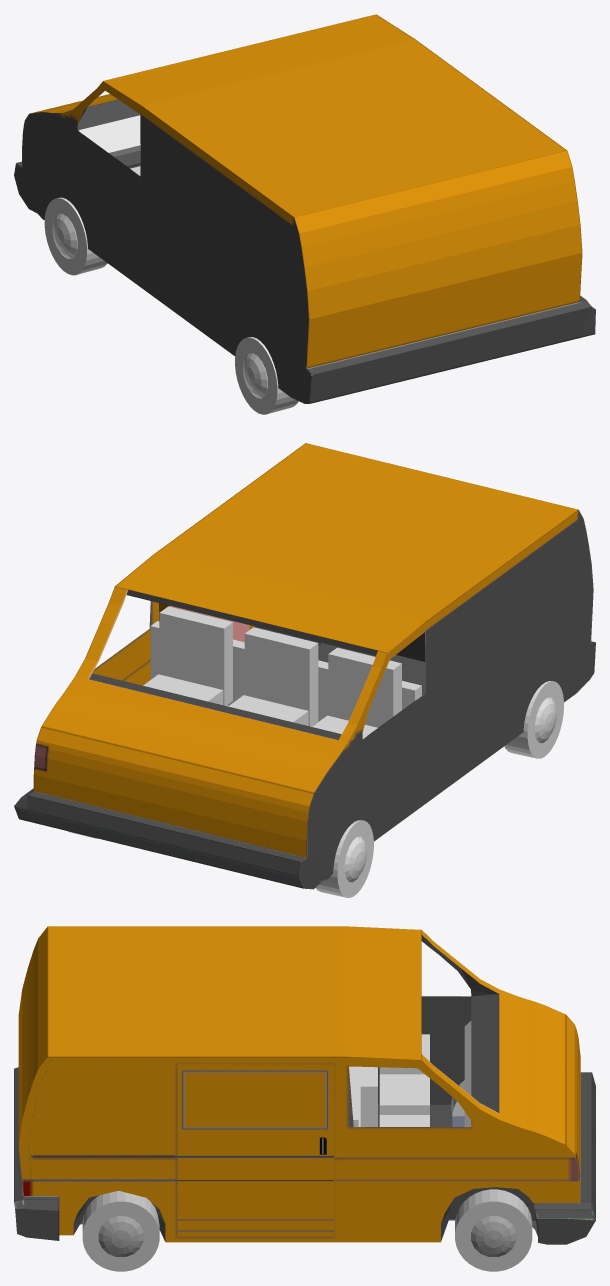
The model's file is vanFBX.fbx.
The picture shows the model from 3 angles, top to bottom: view 1: azimuth 30°, elevation 25°; view 2: azimuth 150°, elevation 25°; view 3: azimuth 270°, elevation 25°; orthographic projection. The views are drawn at different scales.
Parts seen in each view (by area): view 1: carFinal, wheel3, wheel4, dash, wheelCap4, wheelCap3; view 2: carFinal, cube_1, cube_2, cube, cube_7, wheel4, wheel3, cube_5, cube_4, wheelCap3, wheelCap4; view 3: carFinal, door, wheel2, wheel1, cube_4, wheelCap1, wheelCap2, cube_2, dash, cube_5, cube_3, cube_7.
Part boxes in pixels (x1,y1,x2,y2): carFinal: [14, 14, 595, 403]; wheel3: [44, 197, 107, 275]; wheel4: [235, 337, 298, 414]; dash: [78, 115, 140, 156]; wheelCap4: [243, 353, 267, 398]; wheelCap3: [52, 214, 77, 258]; carFinal: [14, 443, 595, 889]; cube_1: [244, 627, 318, 726]; cube_2: [159, 606, 232, 705]; cube: [328, 647, 401, 727]; cube_7: [150, 621, 421, 726]; wheel4: [504, 681, 563, 758]; wheel3: [315, 820, 373, 897]; cube_5: [143, 674, 223, 704]; cube_4: [228, 695, 308, 725]; wheelCap3: [344, 836, 366, 882]; wheelCap4: [535, 697, 556, 743]; carFinal: [14, 926, 595, 1244]; door: [177, 1064, 335, 1236]; wheel2: [455, 1189, 532, 1271]; wheel1: [82, 1190, 159, 1271]; cube_4: [379, 1074, 429, 1114]; wheelCap1: [98, 1216, 143, 1256]; wheelCap2: [471, 1216, 516, 1256]; cube_2: [360, 1066, 377, 1126]; dash: [464, 1021, 471, 1126]; cube_5: [379, 1115, 429, 1126]; cube_3: [379, 1034, 429, 1074]; cube_7: [349, 1066, 358, 1126].
Size of the model in its own units: 108 by 76.88 by 188.
